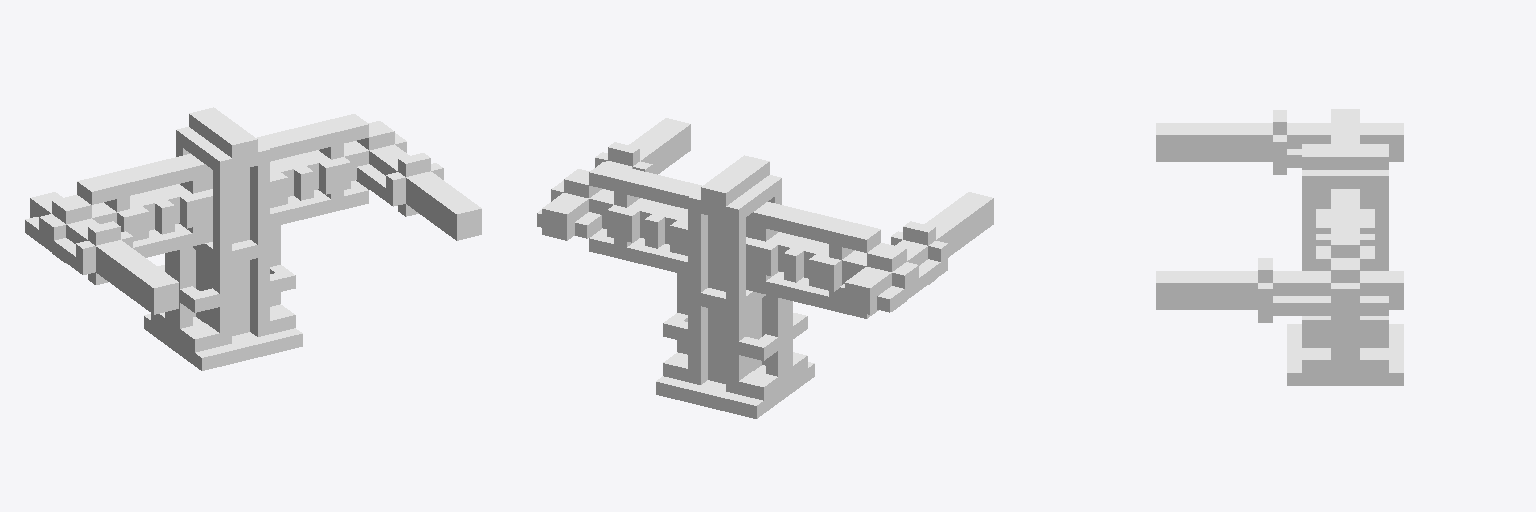
The model's file is fast-0.obj.
3 views of the same model, side by side, from view 1: azimuth 30°, elevation 25°; view 2: azimuth 150°, elevation 25°; view 3: azimuth 270°, elevation 25° (orthographic).
Visible parts, largest first — view 1: object 1; view 2: object 1; view 3: object 1.
Boxes of the visible parts, <box> form: object 1: <box>25,107,481,370</box>; object 1: <box>537,118,993,418</box>; object 1: <box>1156,109,1403,385</box>.
Bounding box in the file's own units: 2.8 × 1.6 × 1.7.